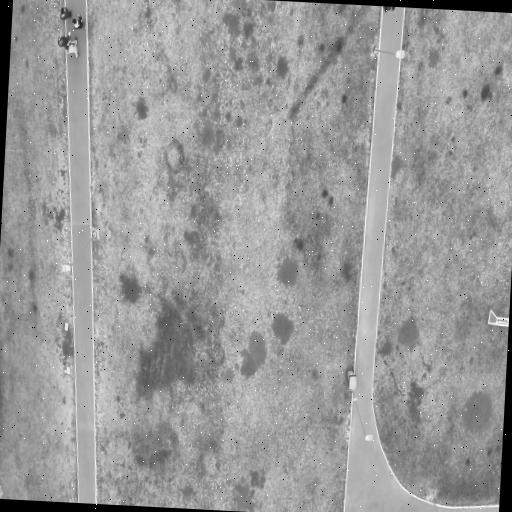person: (66, 38, 78, 56), (58, 32, 70, 46), (73, 13, 84, 28), (60, 7, 72, 20), (383, 6, 390, 11), (390, 7, 395, 10)
